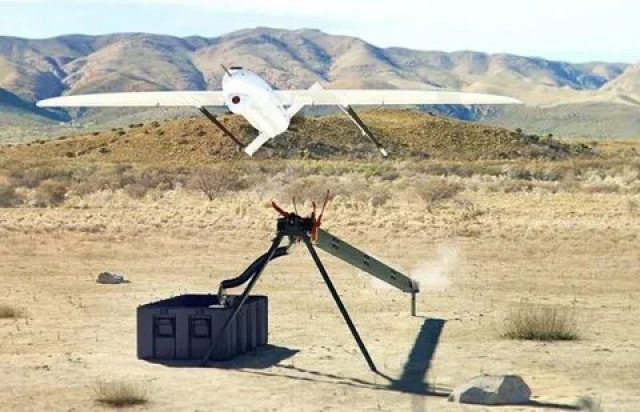military drone: (35, 63, 524, 156)
